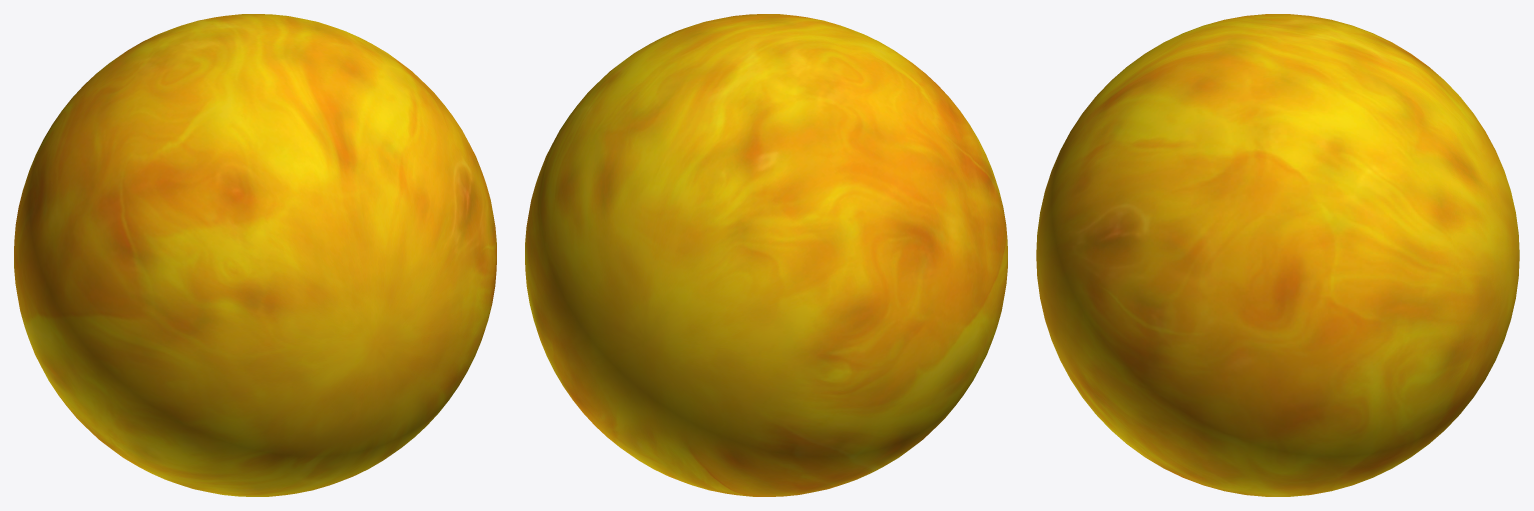
The model's file is planet_sphere.obj.
3 renders of one model, left to right at view 1: azimuth 30°, elevation 25°; view 2: azimuth 150°, elevation 25°; view 3: azimuth 270°, elevation 25°, orthographic.
Parts seen in each view (by area): view 1: planet_sphere; view 2: planet_sphere; view 3: planet_sphere.
Boxes of the visible parts, bbox=[...] form: planet_sphere: bbox=[14, 14, 496, 496]; planet_sphere: bbox=[525, 14, 1007, 496]; planet_sphere: bbox=[1036, 14, 1519, 496].
Bounding box in the file's own units: 99.8 × 99.9 × 100.
Materials: 1 (1 with a texture image).
